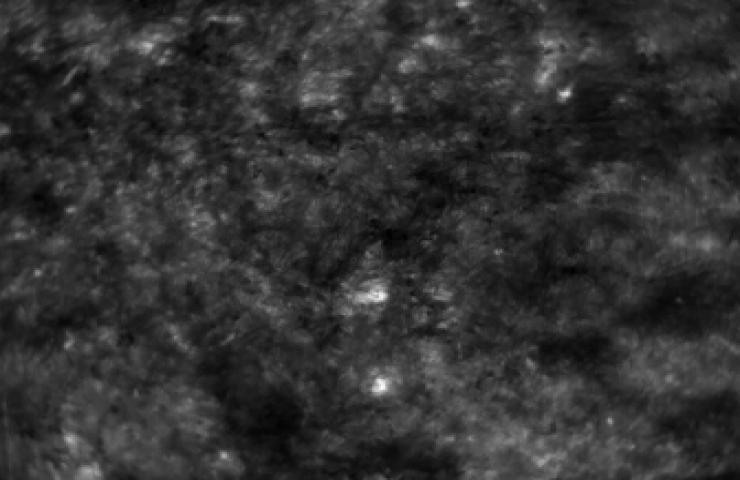landmines: (353, 280, 391, 308)
